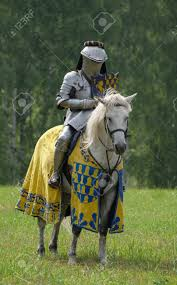Horse: (32, 97, 134, 261)
Person: (60, 36, 110, 164)
